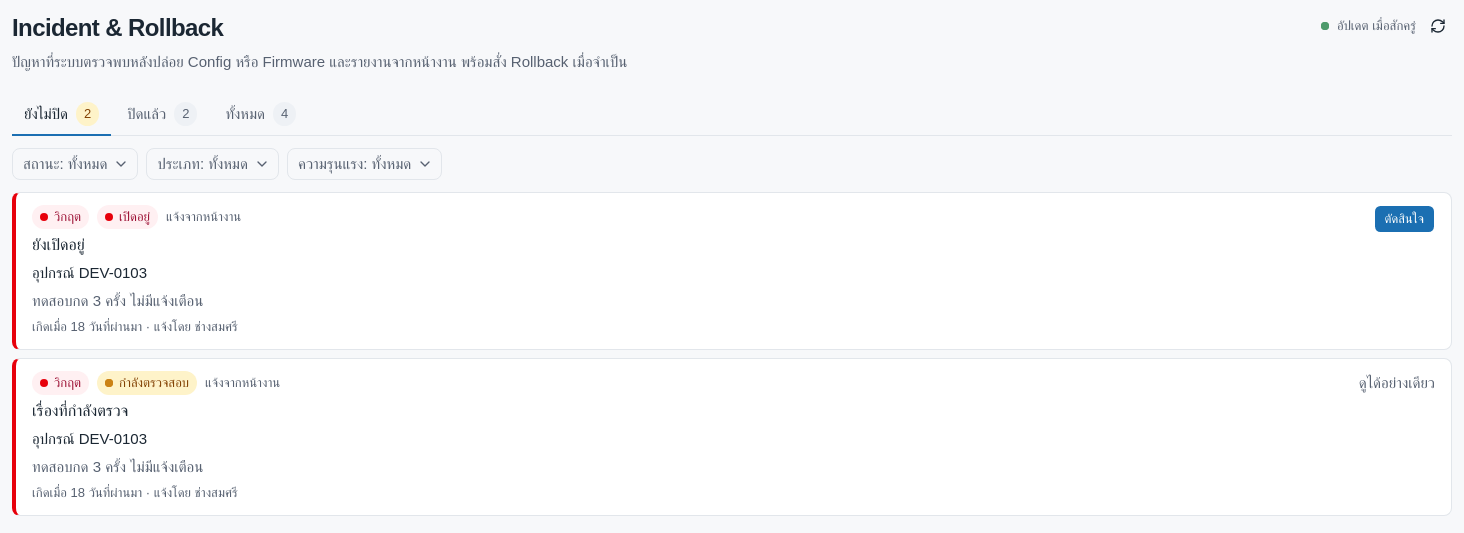
Scenario: IncidentsView: แท็บ ยังไม่ปิด / ปิดแล้ว / ทั้งหมด › กดแท็บ 'ปิดแล้ว': เห็นเฉพาะที่ปิดแล้ว ไม่เห็นที่ยังเปิดอยู่ และไม่มีหัวกลุ่ม
Click the button "ปิดแล้ว 2" at {"x": 162, "y": 115}, box x1=115 y1=94 x2=209 y2=136
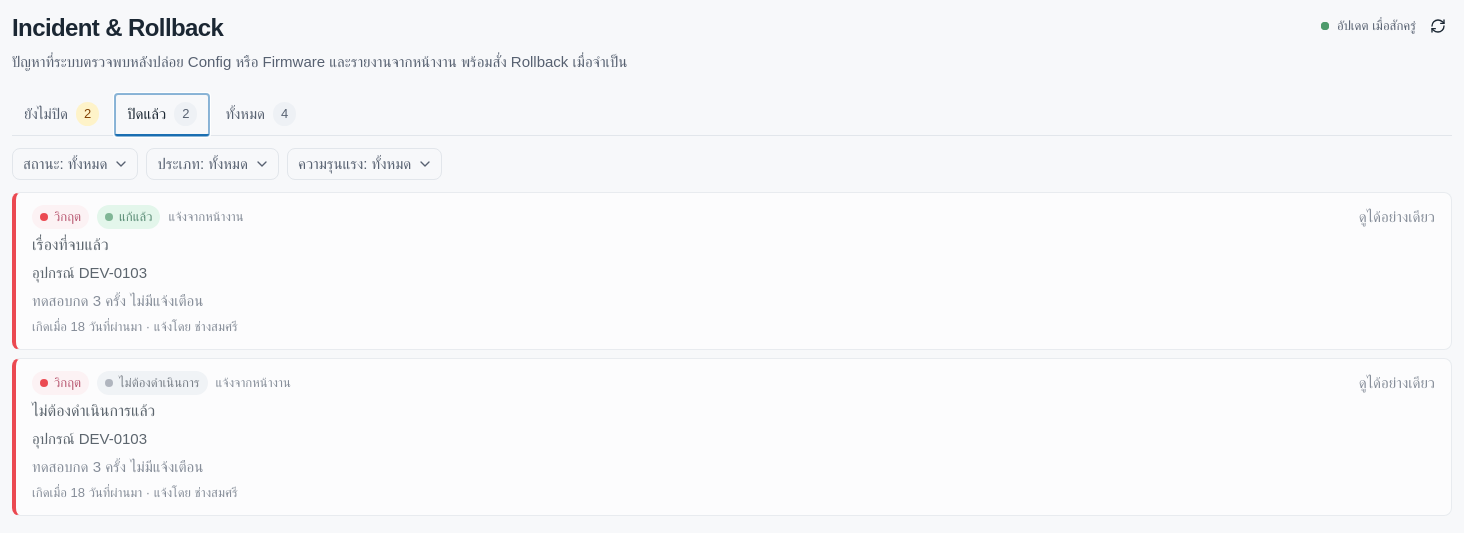
Expected: the link "เรื่องที่จบแล้ว" is shown, x1=32 y1=236 x2=109 y2=253
Expected: the link "ไม่ต้องดำเนินการแล้ว" is shown, x1=32 y1=402 x2=155 y2=419
Expected: the link "ยังเปิดอยู่" is gone
